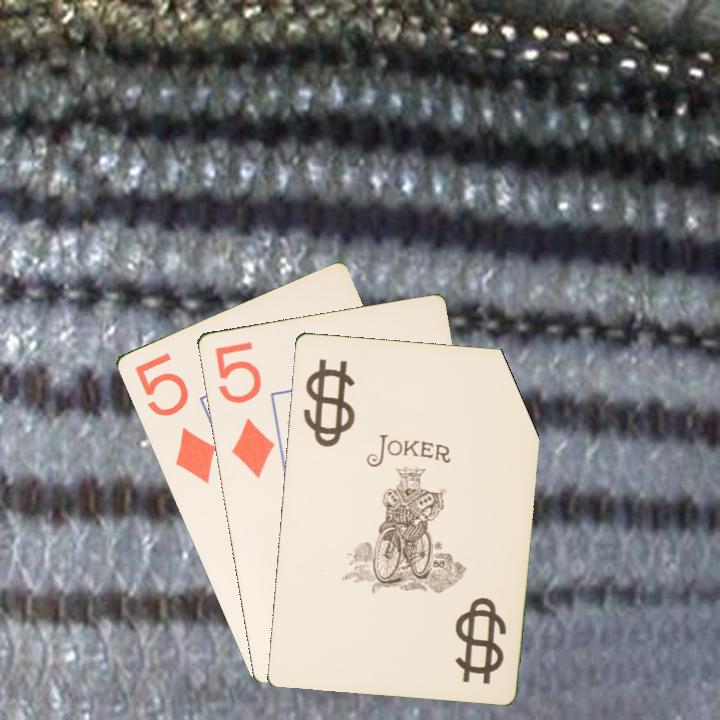5d: (131, 349, 218, 487), (211, 338, 277, 481)
JK: (457, 593, 509, 687), (307, 371, 343, 443)
